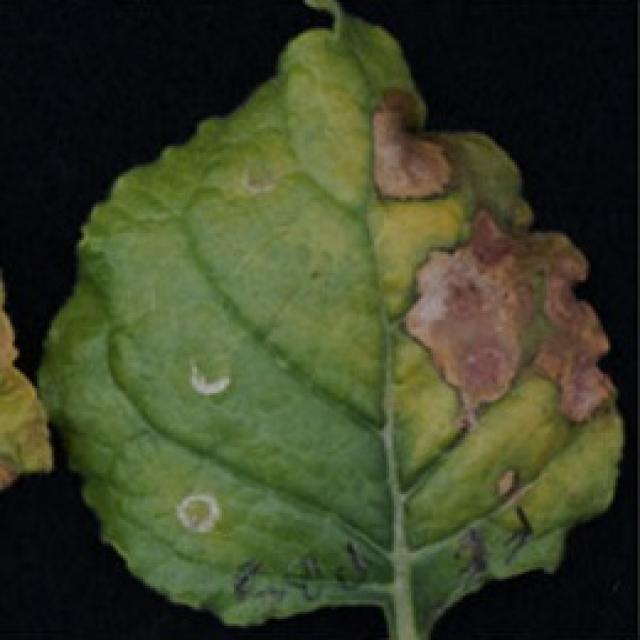Fusarium Wilt: (402, 198, 626, 424)
